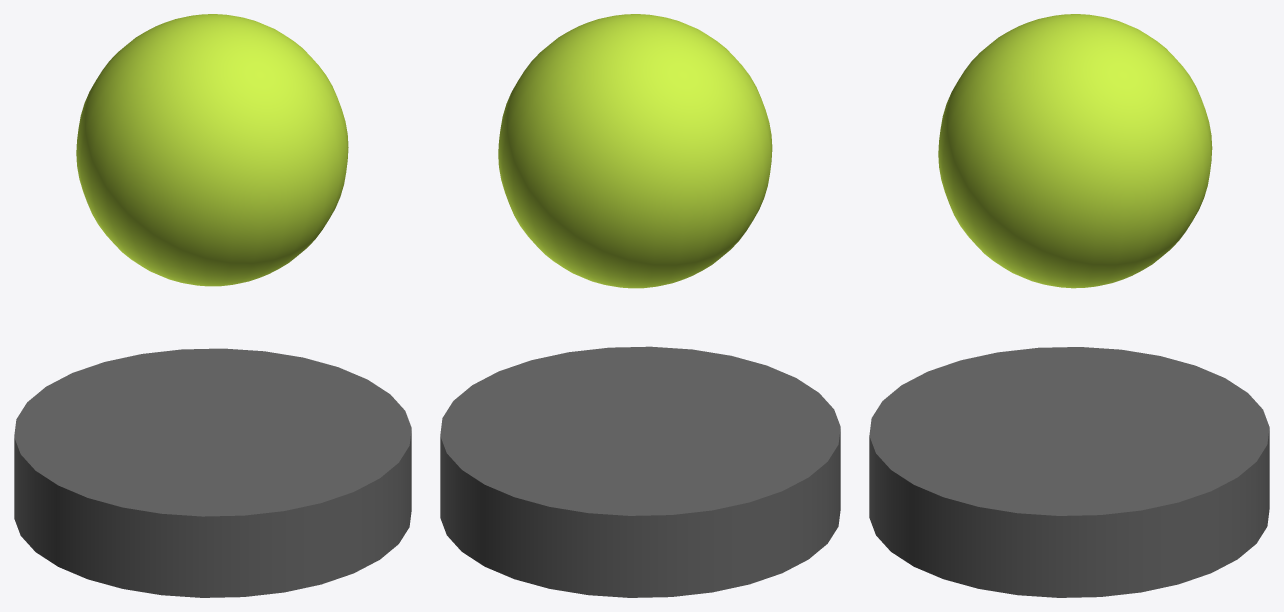
Rendered from sphGreen.glb.
The picture shows the model from 3 angles, left to right: view 1: azimuth 30°, elevation 25°; view 2: azimuth 150°, elevation 25°; view 3: azimuth 270°, elevation 25°; orthographic projection.
Visible parts, largest first — view 1: 029_Cylinder_-_baked_12, 028_Sphere_3; view 2: 029_Cylinder_-_baked_12, 028_Sphere_3; view 3: 029_Cylinder_-_baked_12, 028_Sphere_3.
Part boxes in pixels (<box>): 029_Cylinder_-_baked_12: <box>14,348,411,597</box>; 028_Sphere_3: <box>76,14,348,286</box>; 029_Cylinder_-_baked_12: <box>440,346,840,597</box>; 028_Sphere_3: <box>498,14,772,288</box>; 029_Cylinder_-_baked_12: <box>869,347,1269,597</box>; 028_Sphere_3: <box>938,14,1212,288</box>.
Size of the model in its own units: 17.32 by 23.29 by 17.32.
